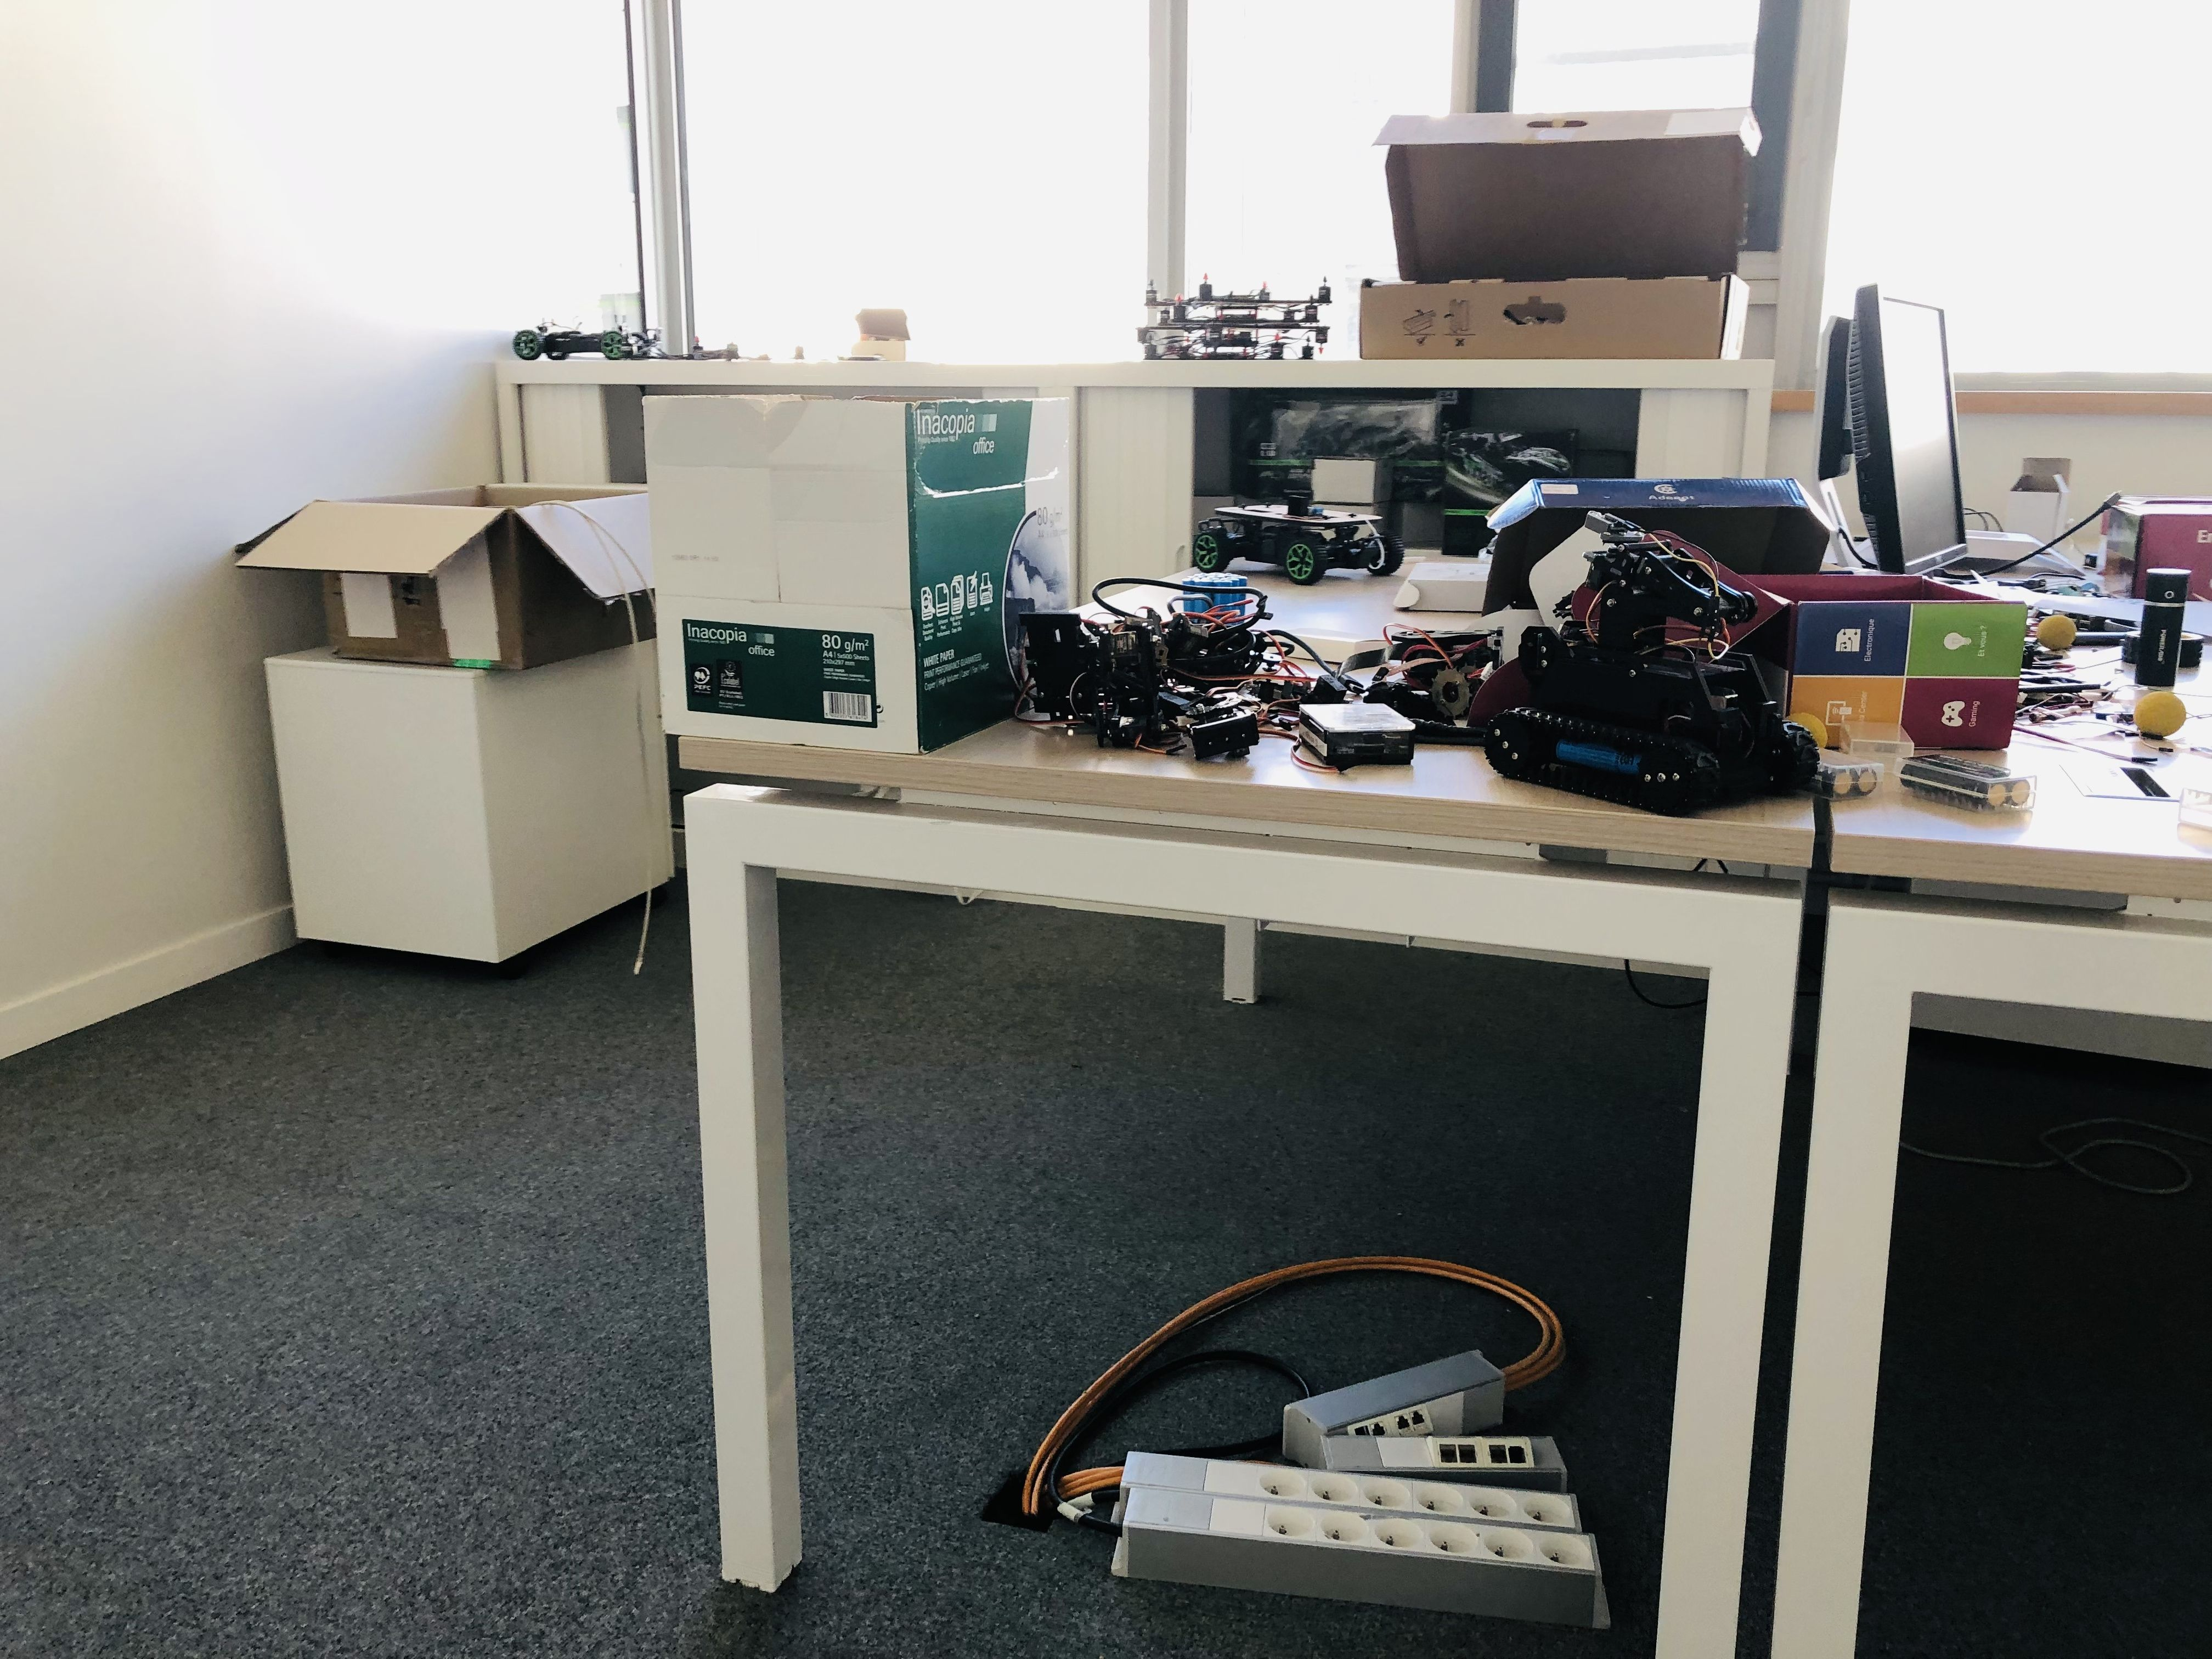rasptank: (1480, 504, 1810, 814)
